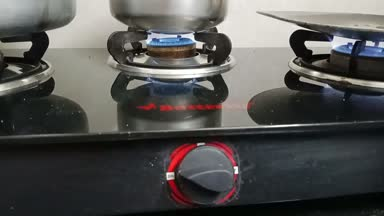flame_gas_on: (108, 24, 253, 207), (290, 24, 384, 91)
